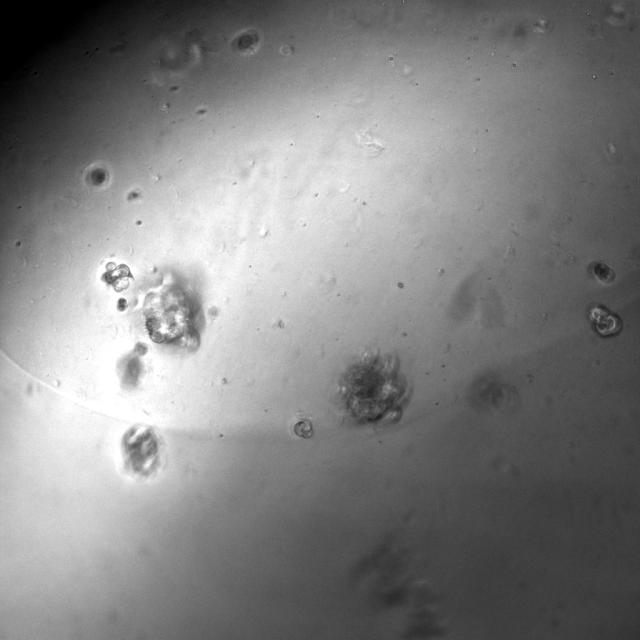organoid: (338, 351, 409, 426), (142, 272, 202, 351), (122, 425, 161, 476), (116, 341, 148, 388), (588, 304, 622, 338), (100, 262, 133, 293), (83, 162, 112, 190), (588, 261, 616, 285), (233, 29, 259, 51), (294, 419, 312, 437), (127, 188, 141, 201), (116, 297, 128, 311)
